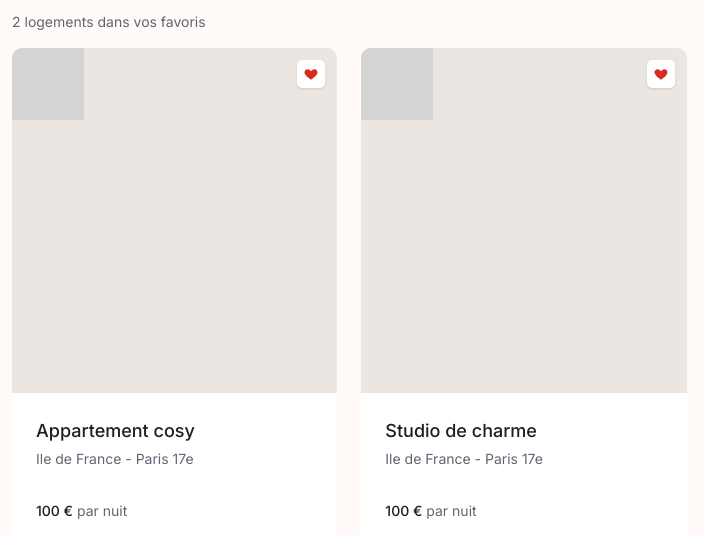
Test case: FavoritesList › retire la carte quand on enlève le logement des favoris
The width and height of the screenshot is (704, 536).
Click the button named "Retirer « Appartement cosy » des favoris". click: (311, 74)
box: [297,60,325,88]
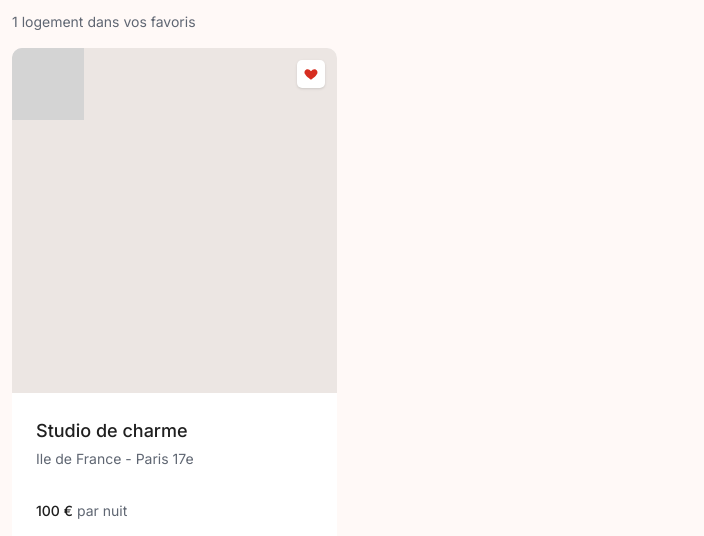
Expected: the heading "Studio de charme" is shown, [36,420,188,441]
Expected: the link "Appartement cosy" is gone
Expected: the message reads "1 logement dans vos favoris", [12,13,196,30]
